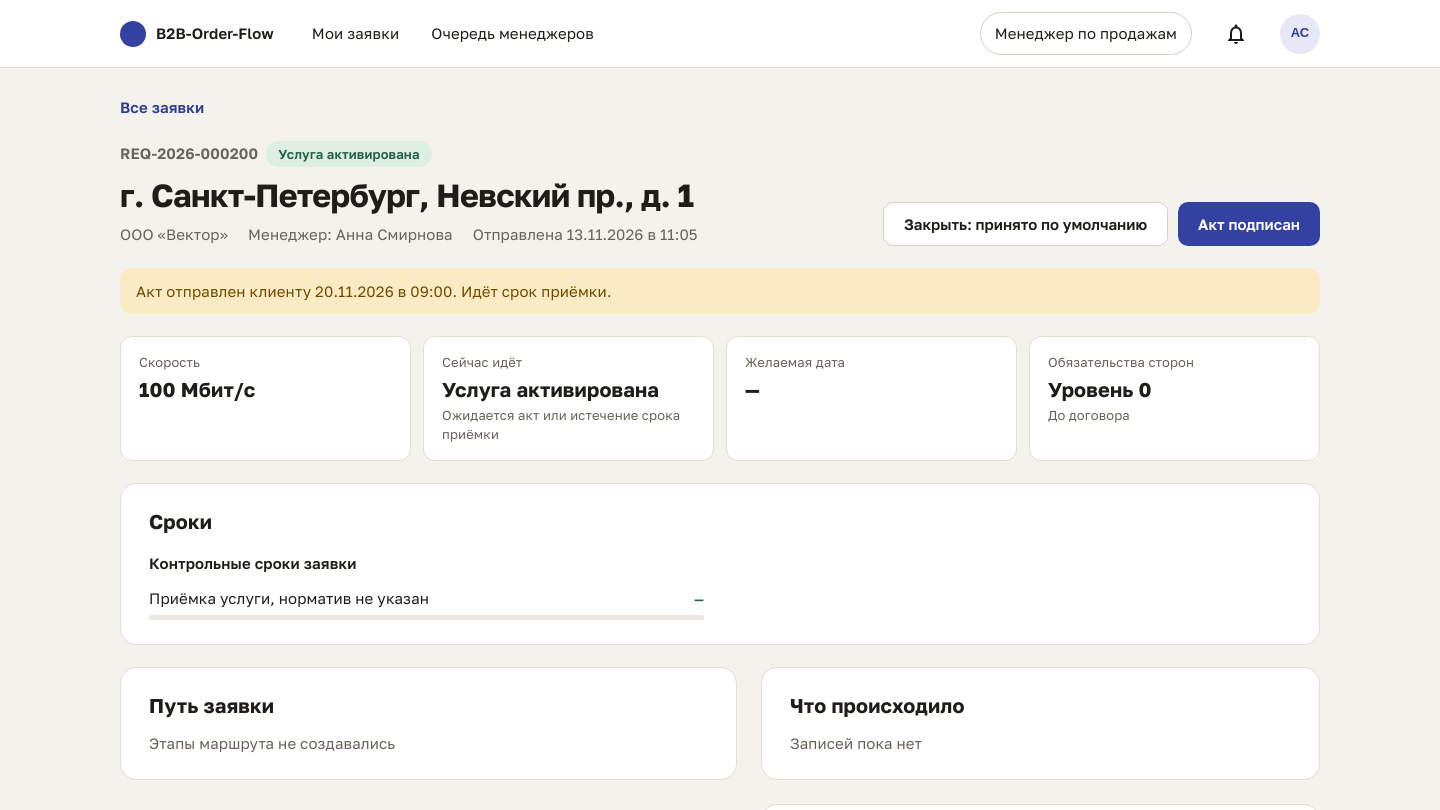
Акт и закрытие (шаг 10) › если часы разошлись и ядро ответило 409, показывает понятный текст
Click the button with test id "action-close-by-default": (1025, 224) [883,202,1168,246]
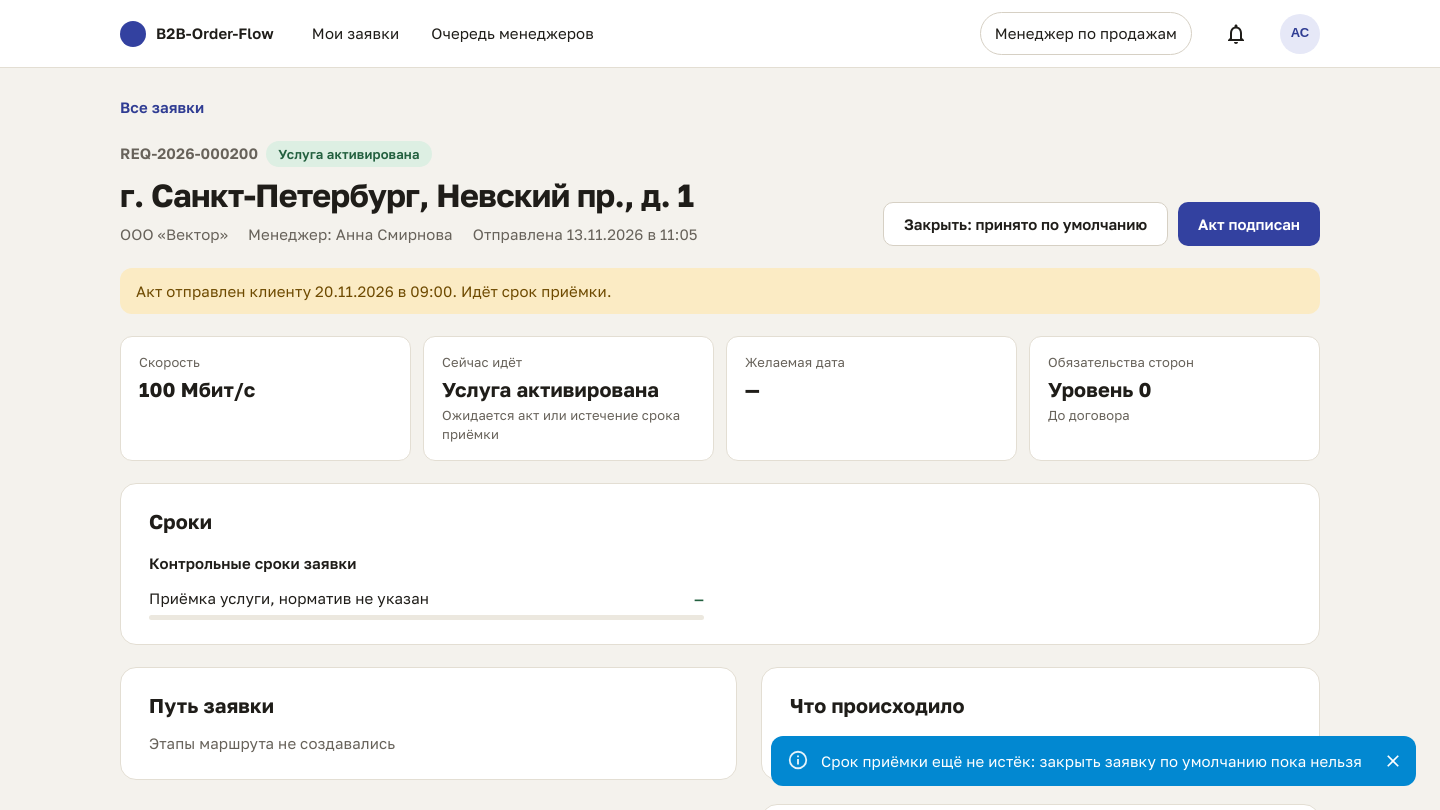
Result: the text "Срок приёмки ещё не истёк: закрыть заявку по умолчанию пока нельзя" is shown at [821,752,1362,770]
